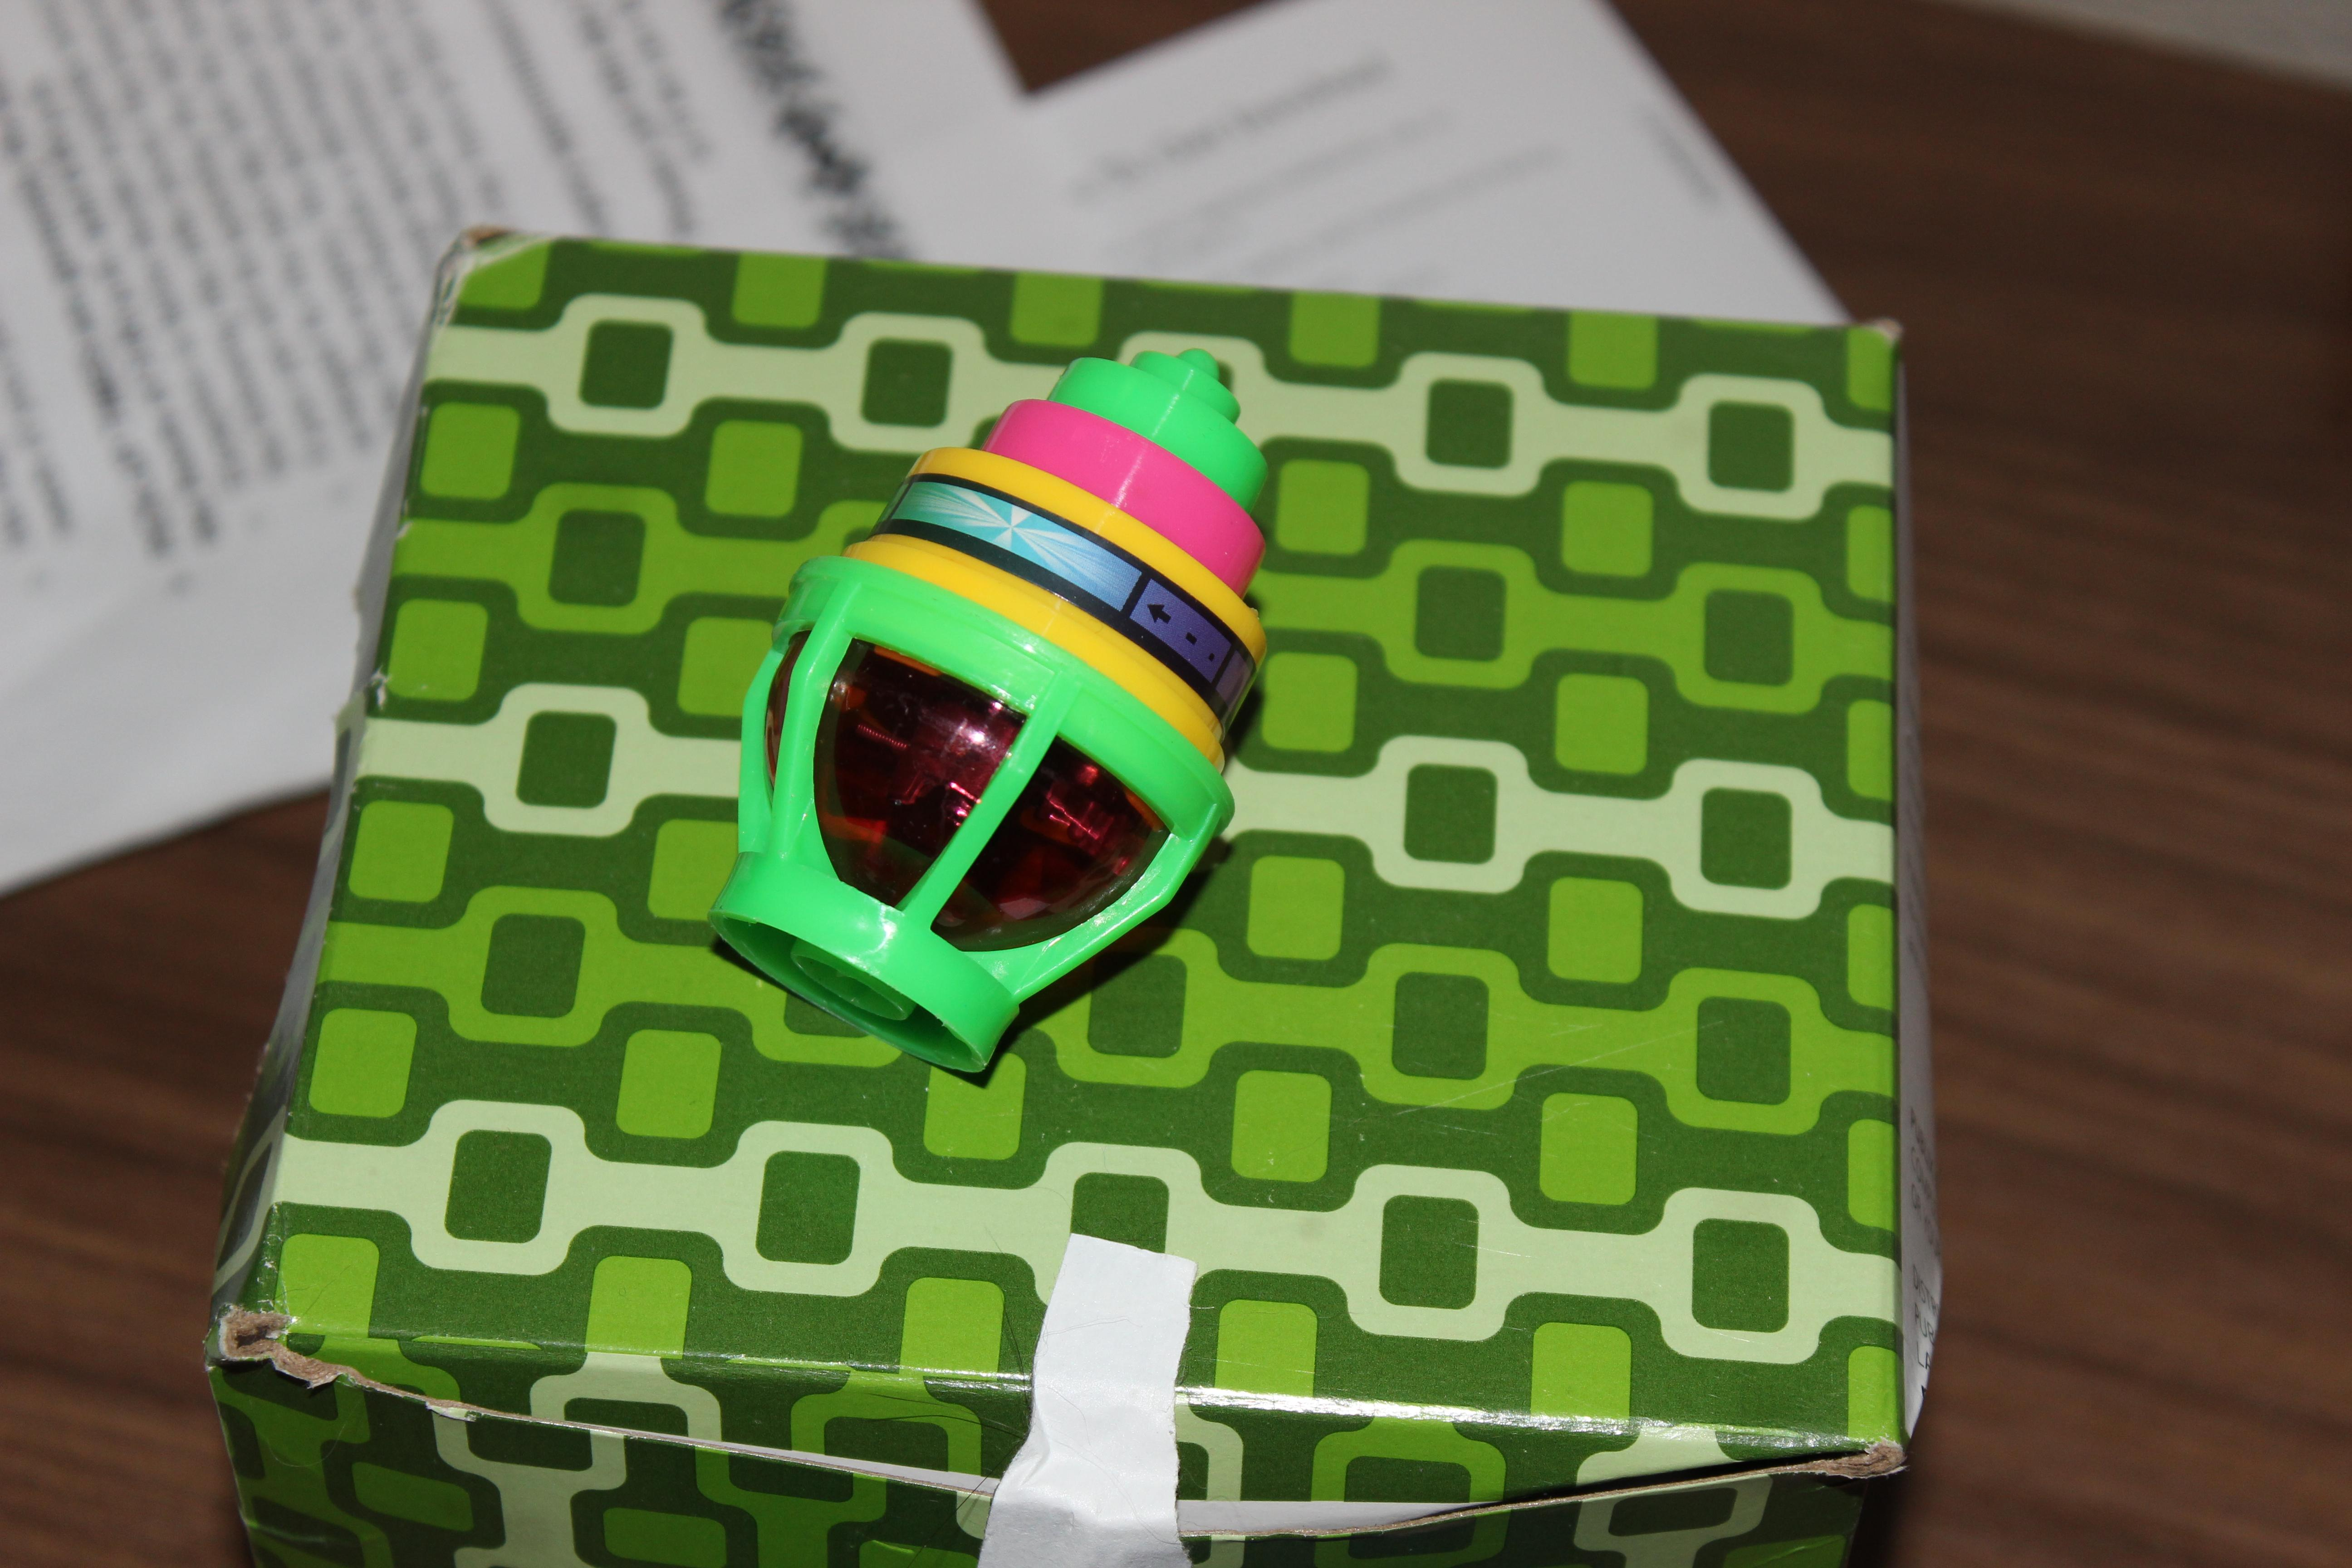gyroscope: (665, 304, 1297, 1102)
